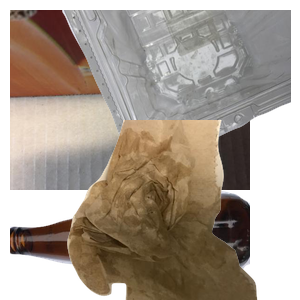cardboard: (10, 10, 250, 190)
glass: (10, 188, 250, 300)
plastic: (60, 10, 300, 162)
trash: (65, 120, 300, 300)
